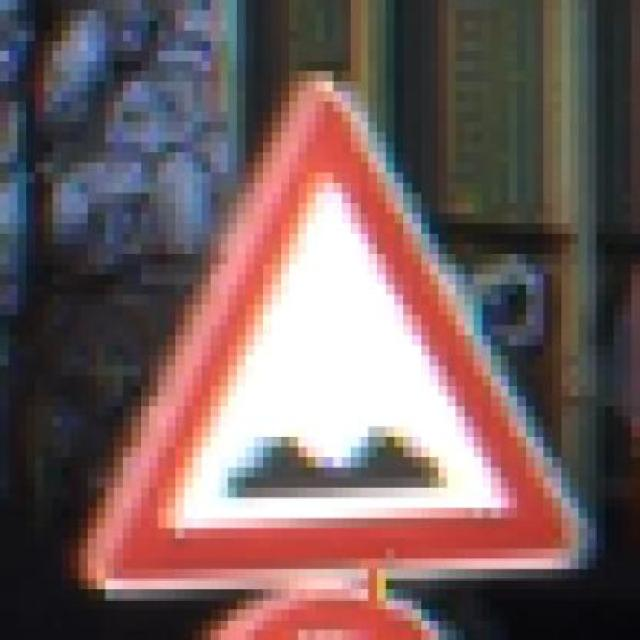Uneven Road: (52, 51, 614, 600)
